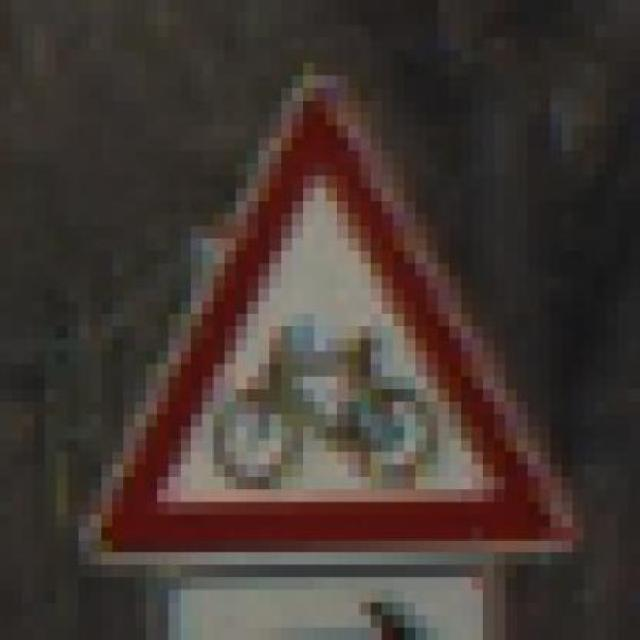CYCLE ROUTE AHEAD WARNING: (68, 62, 595, 578)
